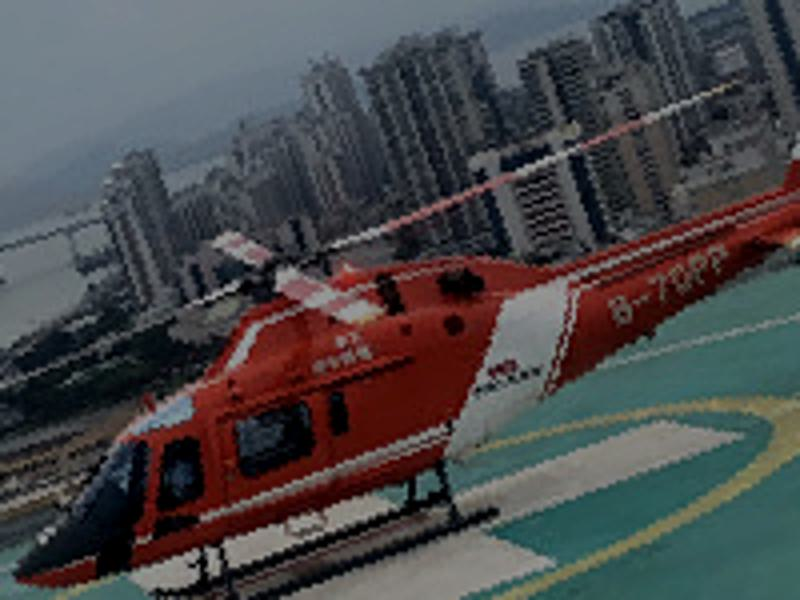Apron: (4, 377, 800, 600)
